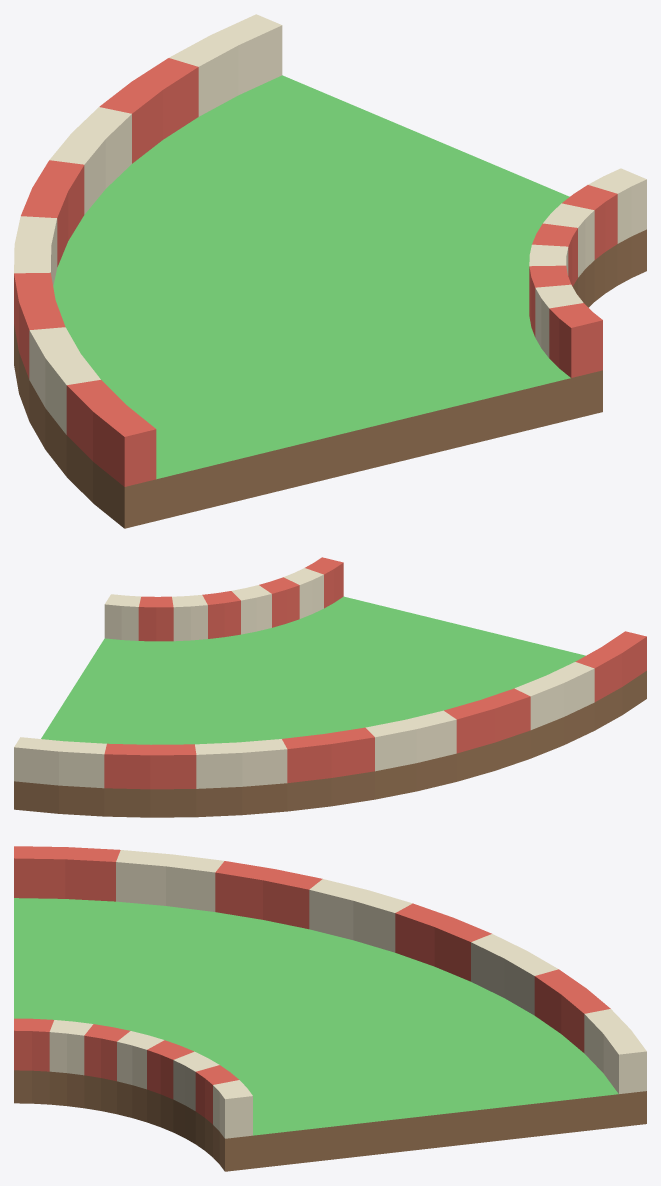
The model's file is carnival_turn_75deg_rounded.glb.
3 views of the same model, one above another, from view 1: azimuth 30°, elevation 25°; view 2: azimuth 150°, elevation 25°; view 3: azimuth 270°, elevation 25° (orthographic). The views are drawn at different scales.
Parts seen in each view (by area): view 1: Mesh_Floor.007, Mesh_Wall_L.009, Mesh_Wall_R.009; view 2: Mesh_Floor.007, Mesh_Wall_L.009, Mesh_Wall_R.009; view 3: Mesh_Floor.007, Mesh_Wall_L.009, Mesh_Wall_R.009.
Part boxes in pixels (<box>): Mesh_Floor.007: <box>14,75,646,528</box>; Mesh_Wall_L.009: <box>14,14,282,486</box>; Mesh_Wall_R.009: <box>529,168,646,377</box>; Mesh_Floor.007: <box>14,596,646,817</box>; Mesh_Wall_L.009: <box>14,631,646,789</box>; Mesh_Wall_R.009: <box>104,557,343,641</box>; Mesh_Floor.007: <box>14,898,646,1171</box>; Mesh_Wall_L.009: <box>14,846,646,1093</box>; Mesh_Wall_R.009: <box>14,1018,252,1138</box>.
Size of what is drawn, in the model's own units: 8.22 by 1.1 by 8.69.
